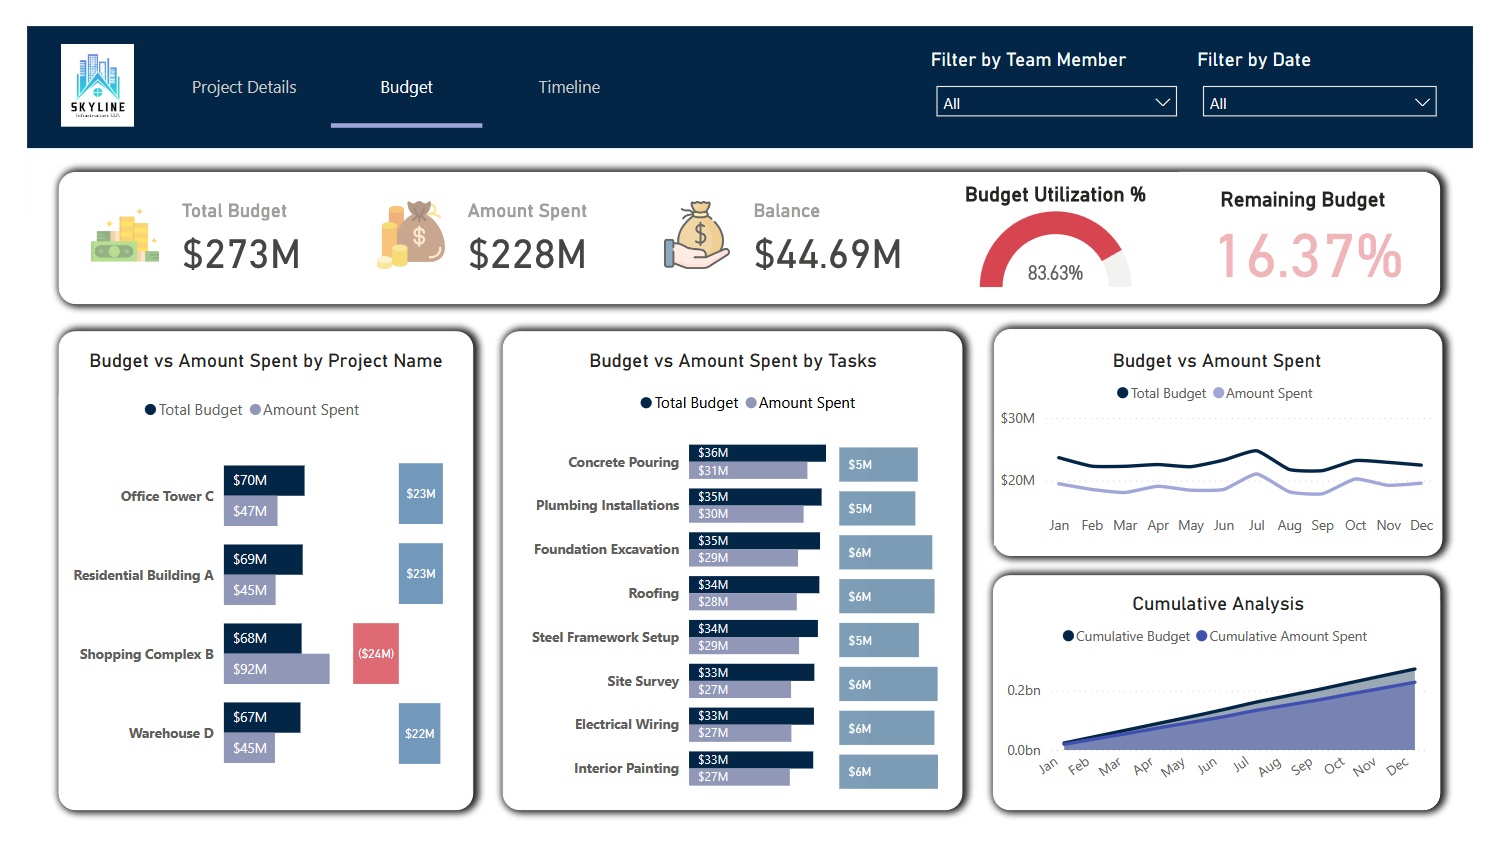

The page's visual inventory and layout, read from the dashboard file:
{"tool":"powerbi","page":{"name":"Budget","canvas":[1280,720],"ordinal":1},"visuals":[{"type":"textbox","box":[0,0,1280,107.5],"z":0},{"type":"slicer","title":"Filter by Team Member","fields":{"Values":["Dataset.Assigned To"]},"box":[795,18.7,232.5,71.2],"z":0,"group":"g1"},{"type":"image","box":[0,11.2,125,82.5],"z":1000,"group":"g1"},{"type":"textbox","box":[855,486.2,396.2,207.5],"z":1000},{"type":"slicer","title":"Filter by Date","fields":{"Values":["Calendar.Year","Calendar.Month"]},"box":[1031.2,18.7,226.2,72.5],"z":2000,"group":"g1"},{"type":"textbox","box":[856.2,267.5,396.2,201.2],"z":2000},{"type":"textbox","box":[421.2,270,406.2,423.8],"z":3000},{"type":"textbox","box":[27.5,270,367.5,423.8],"z":4000},{"type":"textbox","box":[27.5,128.8,1223.8,117.5],"z":5000},{"type":"cardVisual","fields":{"Data":["Budget Measures.Total Budget","Budget Measures.Amount Spent","Budget Measures.Balance"]},"box":[40,127.5,770,118.8],"z":6000},{"type":"gauge","fields":{"Y":["Budget Measures.Budget Utilization %"]},"box":[785,137.5,251.2,98.8],"z":7000},{"type":"card","fields":{"Values":["Budget Measures.% Remaining Budget"]},"box":[1036.2,153.8,195,83.8],"z":8000},{"type":"card","fields":{"Values":["Budget Measures.Title"]},"box":[1019.8,128.9,218.9,48.9],"z":9000},{"type":"clusteredBarChart","title":"Budget vs Amount Spent by Project Name","fields":{"Category":["Dataset.Project Name"],"Y":["Budget Measures.Total Budget","Budget Measures.Amount Spent"]},"box":[27.5,312.5,282.5,381.2],"z":10000},{"type":"clusteredBarChart","fields":{"Category":["Dataset.Project Name"],"Y":["Budget Measures.Balance"]},"box":[247.5,373.8,156.2,287.5],"z":11000},{"type":"clusteredBarChart","fields":{"Category":["Dataset.Task Name"],"Y":["Budget Measures.Balance"]},"box":[714.1,359.5,124.7,321.6],"z":12000},{"type":"clusteredBarChart","fields":{"Category":["Dataset.Task Name"],"Y":["Budget Measures.Total Budget","Budget Measures.Amount Spent"]},"box":[441.2,312.5,301.2,381.2],"z":13000},{"type":"areaChart","title":"Cumulative Analysis","fields":{"Category":["Calendar.Month"],"Y":["Budget Measures.Amount Spent","Budget Measures.Total Budget","select","select1"]},"box":[856.2,495,395,198.8],"z":14000},{"type":"lineChart","title":"Budget vs Amount Spent","fields":{"Y":["Budget Measures.Total Budget","Budget Measures.Amount Spent"],"Category":["Calendar.Month"]},"box":[856.2,286.2,395,173.8],"z":15000},{"type":"textbox","title":"Budget vs Amount Spent by Project Name","box":[27.5,286.2,367.5,52.5],"z":16000},{"type":"textbox","title":"Budget vs Amount Spent by Tasks","box":[441.2,286.2,367.5,52.5],"z":17000},{"type":"group","id":"g1","title":"Navigation Group","box":[0,11.2,1257.5,82.5],"z":18000},{"type":"pageNavigator","box":[125,16.2,422.5,73.8],"z":19000}]}

Visuals, with their boxes in screenshot pixels (x1, y1, x2, y2), scaled from the page's 1280x720 canvas onto the 1495x862 screenshot:
textbox: (0,0,1494,129)
"Filter by Team Member" slicer: (929,22,1200,108)
image: (0,13,146,112)
textbox: (999,582,1461,831)
"Filter by Date" slicer: (1204,22,1469,109)
textbox: (1000,320,1463,561)
textbox: (492,323,966,831)
textbox: (32,323,461,831)
textbox: (32,154,1461,295)
cardVisual - Budget Measures.Total Budget x Budget Measures.Amount Spent: (47,153,946,295)
gauge - Budget Measures.Budget Utilization %: (917,165,1210,283)
card - Budget Measures.% Remaining Budget: (1210,184,1438,284)
card - Budget Measures.Title: (1191,154,1447,213)
"Budget vs Amount Spent by Project Name" clusteredBarChart: (32,374,362,831)
clusteredBarChart - Dataset.Project Name x Budget Measures.Balance: (289,448,472,792)
clusteredBarChart - Dataset.Task Name x Budget Measures.Balance: (834,430,980,815)
clusteredBarChart - Dataset.Task Name x Budget Measures.Total Budget: (515,374,867,831)
"Cumulative Analysis" areaChart: (1000,593,1461,831)
"Budget vs Amount Spent" lineChart: (1000,343,1461,551)
"Budget vs Amount Spent by Project Name" textbox: (32,343,461,405)
"Budget vs Amount Spent by Tasks" textbox: (515,343,945,405)
"Navigation Group" group: (0,13,1469,112)
pageNavigator: (146,19,639,108)
